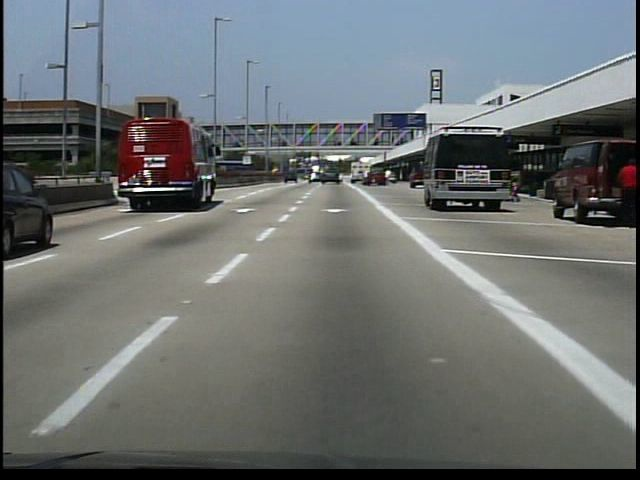person: (383, 167, 396, 189)
